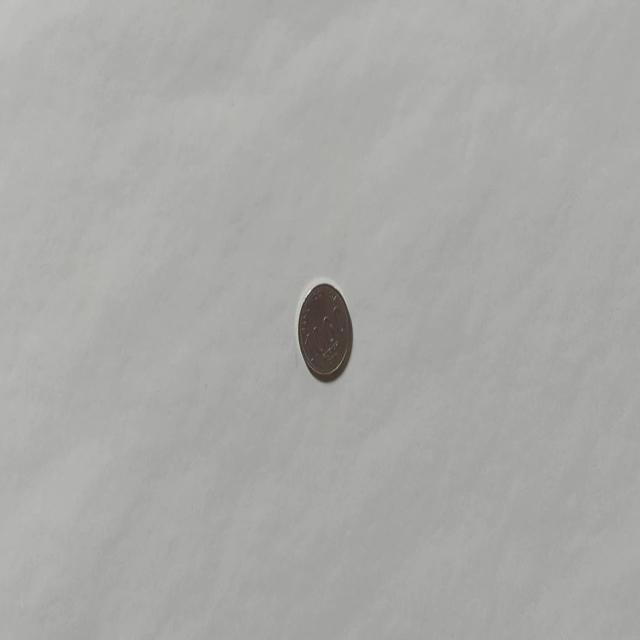seribu rupiah koin: (296, 278, 353, 382)
